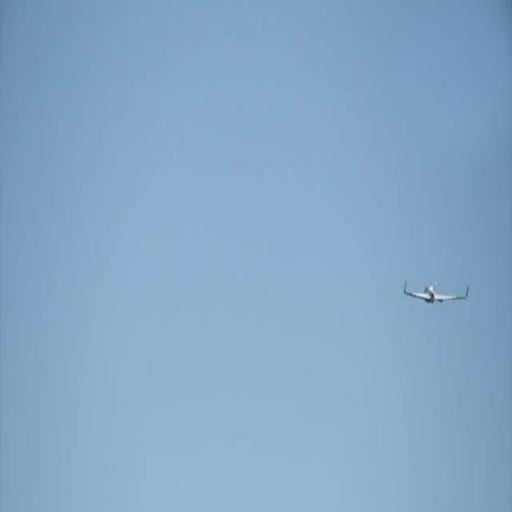uav: (402, 277, 474, 315)
